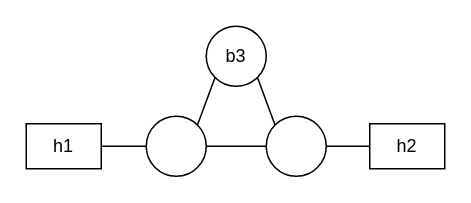
The diagram is 471 pixels wide and 203 high, and some of its shapes have lost their labels. Each missing label, with the box of its shape:
b1: (145, 115, 206, 176)
b2: (265, 115, 326, 176)
